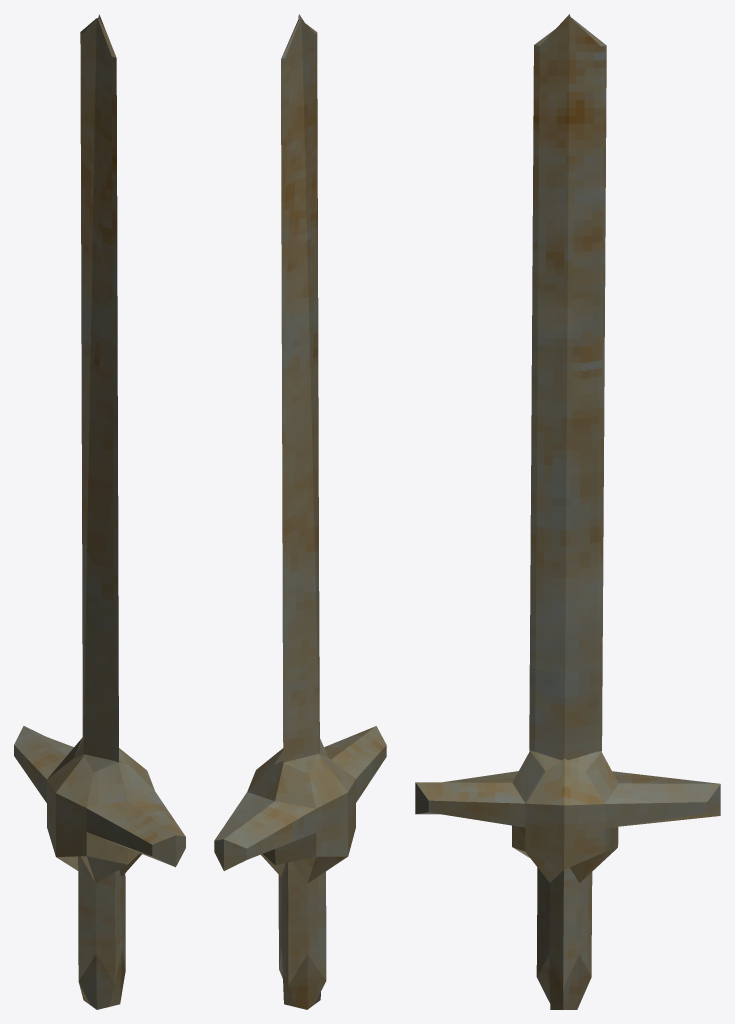
File: iron_sword.fbx
The picture shows the model from 3 angles, left to right: view 1: azimuth 30°, elevation 25°; view 2: azimuth 150°, elevation 25°; view 3: azimuth 270°, elevation 25°; orthographic projection.
Parts seen in each view (by area): view 1: Cubo.003; view 2: Cubo.003; view 3: Cubo.003.
Part boxes in pixels (box(x1,y1,x2,y2)): Cubo.003: box(14, 14, 185, 1009); Cubo.003: box(214, 14, 386, 1009); Cubo.003: box(415, 14, 720, 1009).
Bounding box in the file's own units: 72.15 × 742 × 207.
